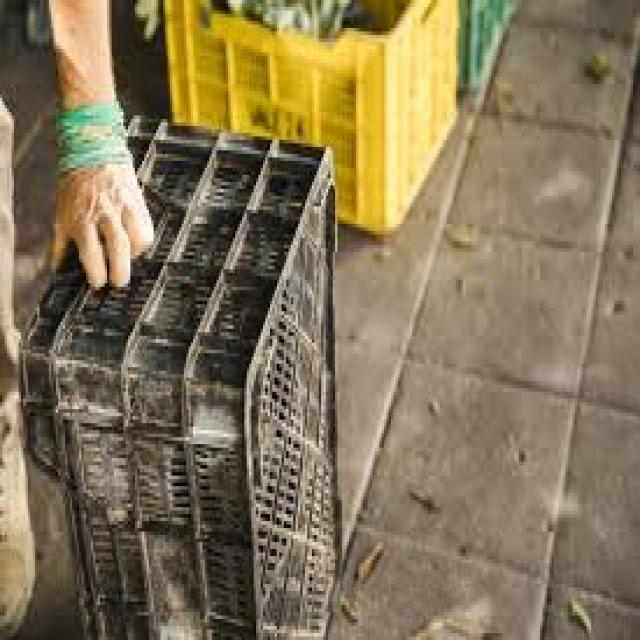basket: (23, 120, 341, 640), (165, 0, 458, 233), (461, 0, 519, 112)
